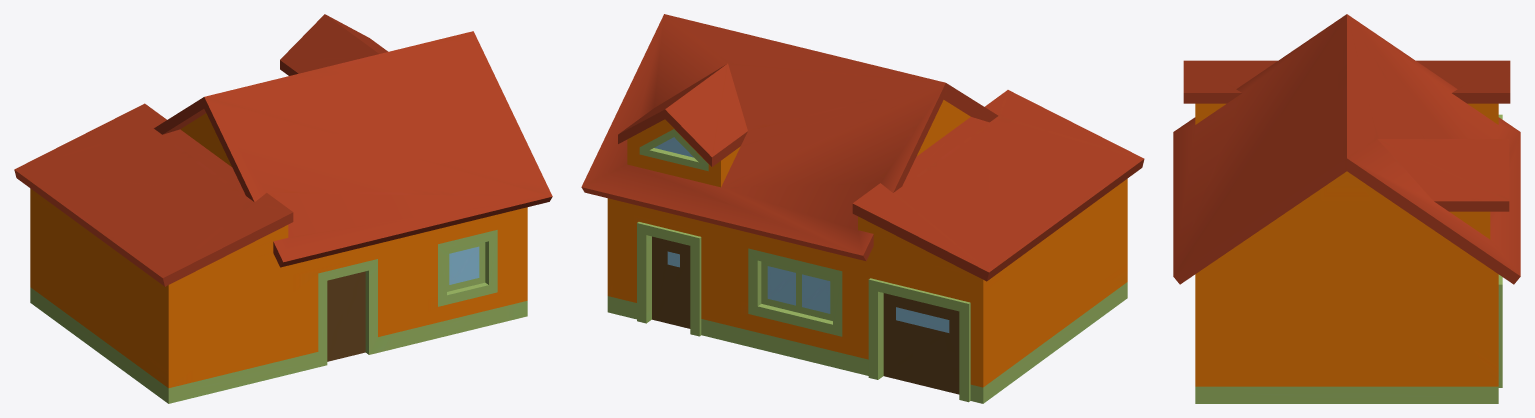
The model's file is house_type04.fbx.
The picture shows the model from 3 angles, left to right: view 1: azimuth 30°, elevation 25°; view 2: azimuth 150°, elevation 25°; view 3: azimuth 270°, elevation 25°; orthographic projection. The views are drawn at different scales.
Parts seen in each view (by area): view 1: house_type04; view 2: house_type04; view 3: house_type04.
Part boxes in pixels (left/top/right/bottom): house_type04: left=14, top=14, right=552, bottom=403; house_type04: left=581, top=14, right=1144, bottom=403; house_type04: left=1173, top=14, right=1520, bottom=403.
Bounding box in the file's own units: 12.86 × 7.38 × 9.16.
Materials: 1 (1 with a texture image).
